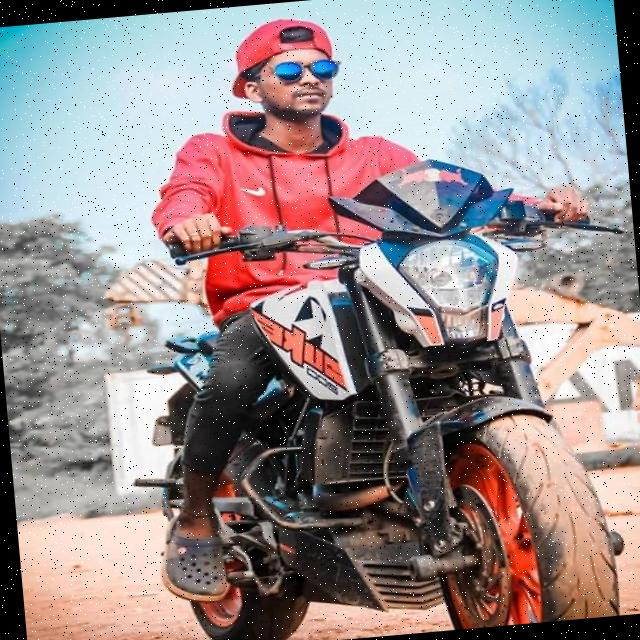No helmet: (227, 8, 352, 146)
